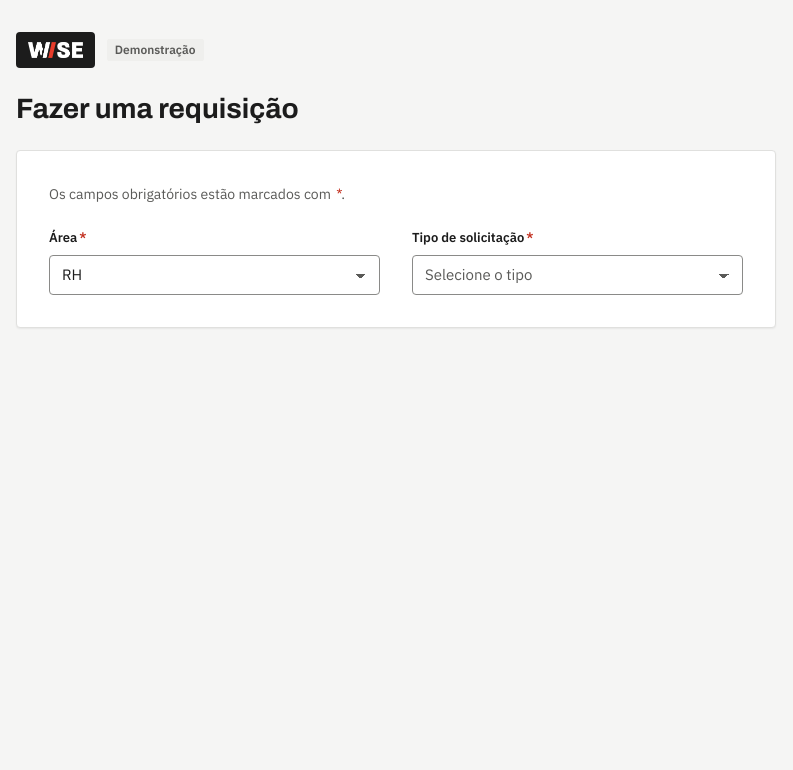
Test case: Requisição › ?area=rh sem tipo pede o tipo; ao escolher Contratação aparecem os 12 campos do modelo
Check: the button "Criar" is not shown
Click the dropdown with id "f-tipo". click: click(479, 274)
box: [412, 255, 743, 295]
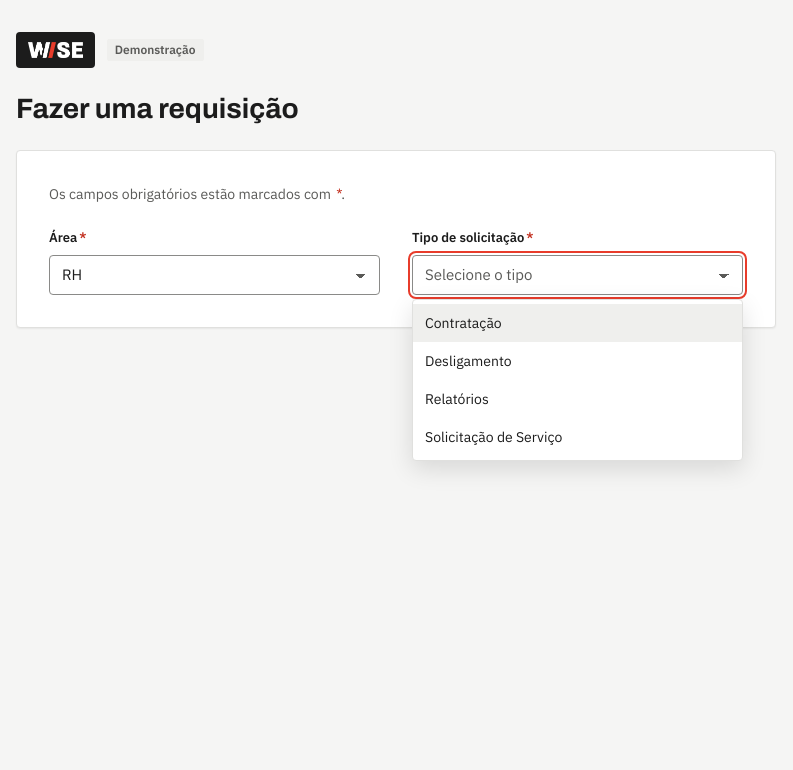
Click the option "Contratação". click: click(463, 323)
box: [413, 304, 742, 342]
(page scrolled)
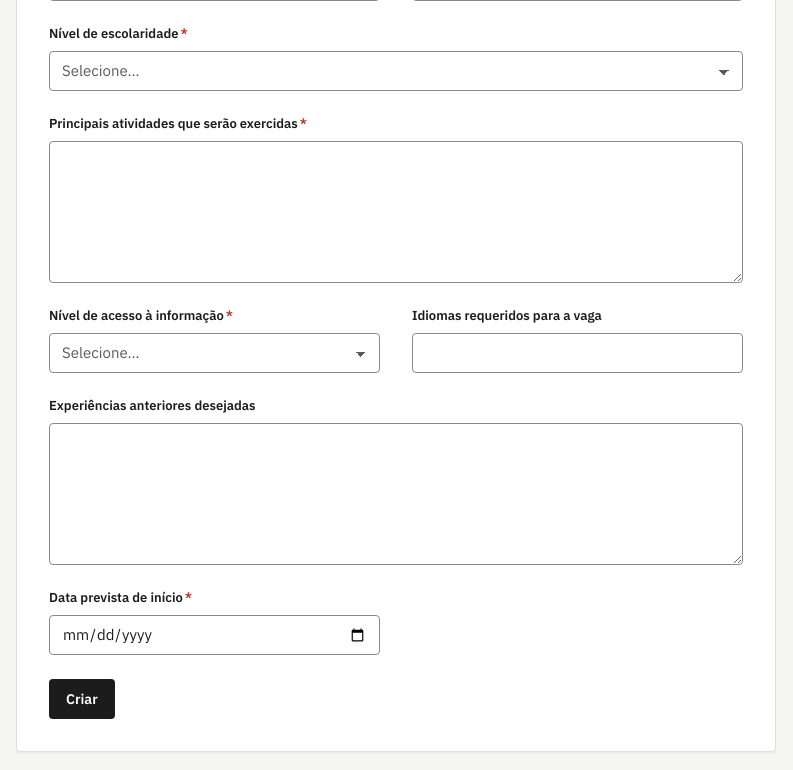
Check: the date field labelled "Data prevista de início*" is shown, box [49, 615, 380, 655]
